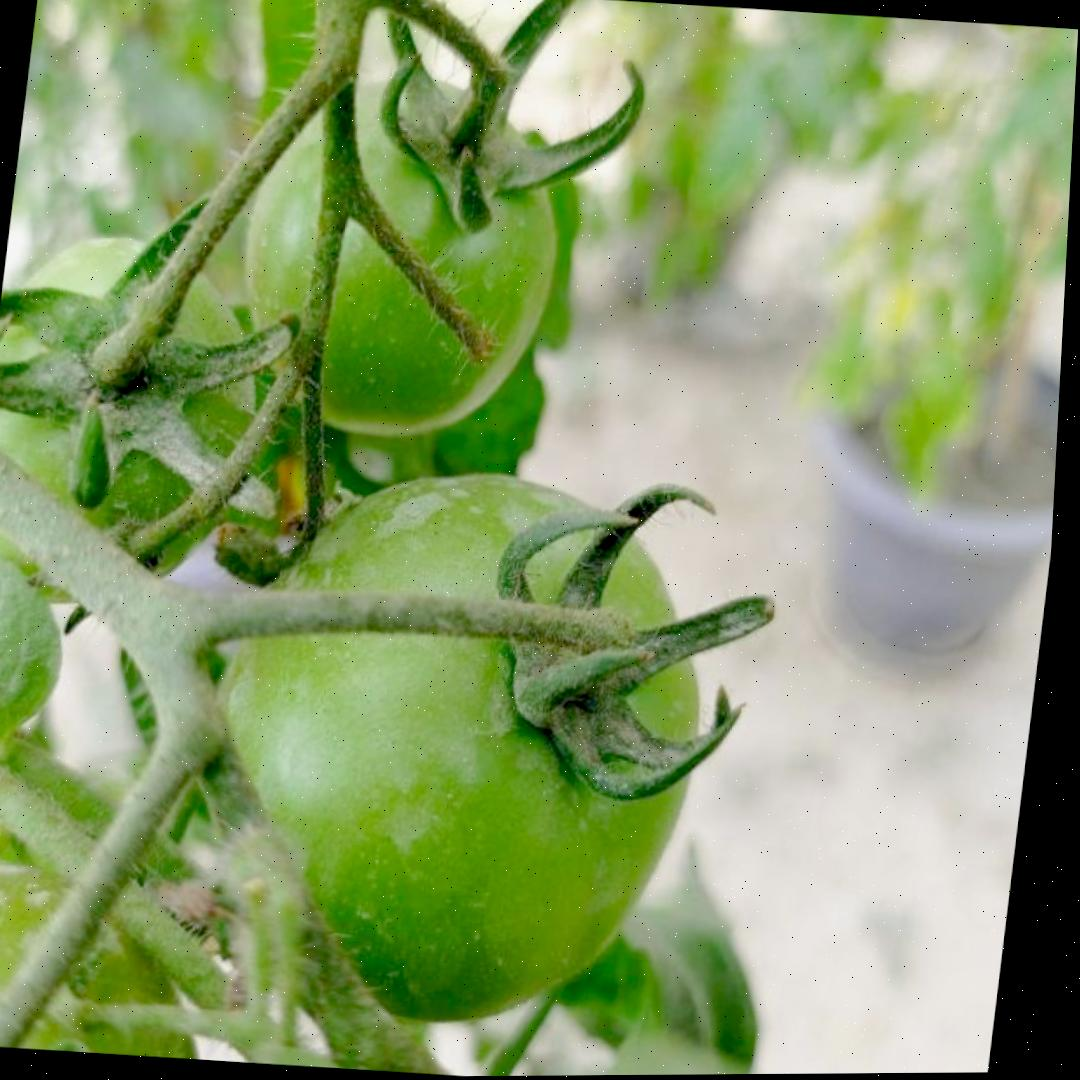mentah: (177, 450, 734, 1043), (220, 60, 579, 450), (0, 223, 278, 617)
